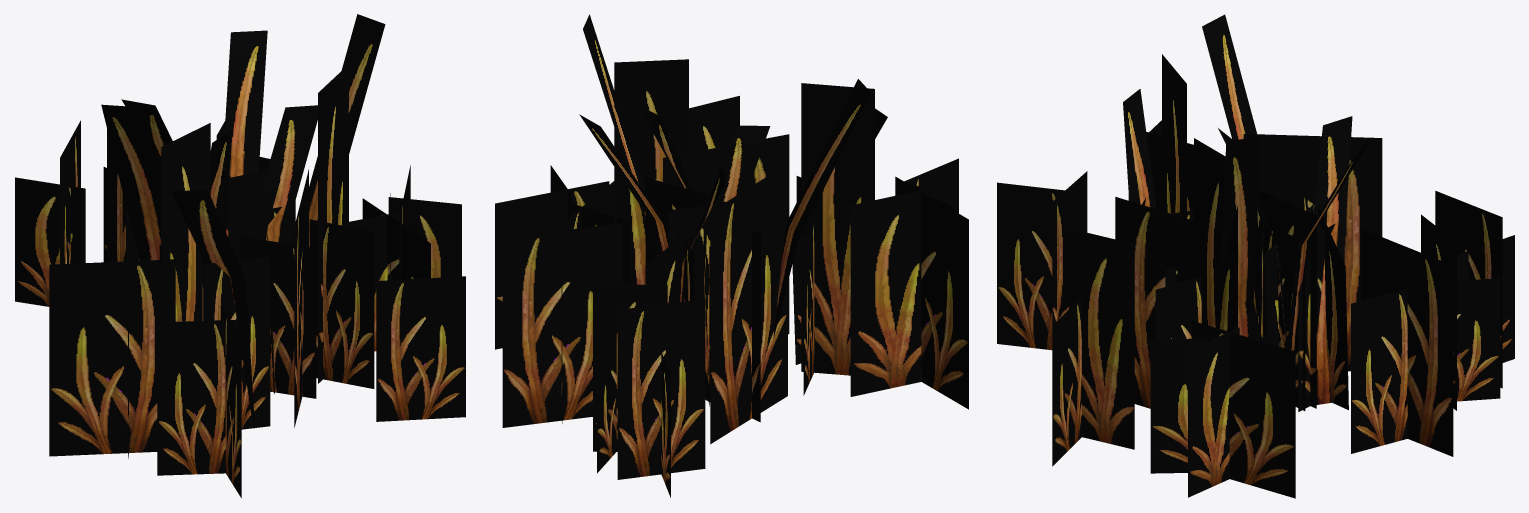
Rendered from nml-bd186.glb.
3 renders of one model, left to right at view 1: azimuth 30°, elevation 25°; view 2: azimuth 150°, elevation 25°; view 3: azimuth 270°, elevation 25°, orthographic.
Visible parts, largest first — view 1: geom_node_0; view 2: geom_node_0; view 3: geom_node_0.
Boxes of the visible parts, x1,y1,x2,y2 form: geom_node_0: (15,14,465,498); geom_node_0: (495,14,968,497); geom_node_0: (997,14,1514,498).
Bounding box in the file's own units: 4.5 × 3.36 × 4.81.
Materials: 1 (1 with a texture image).
